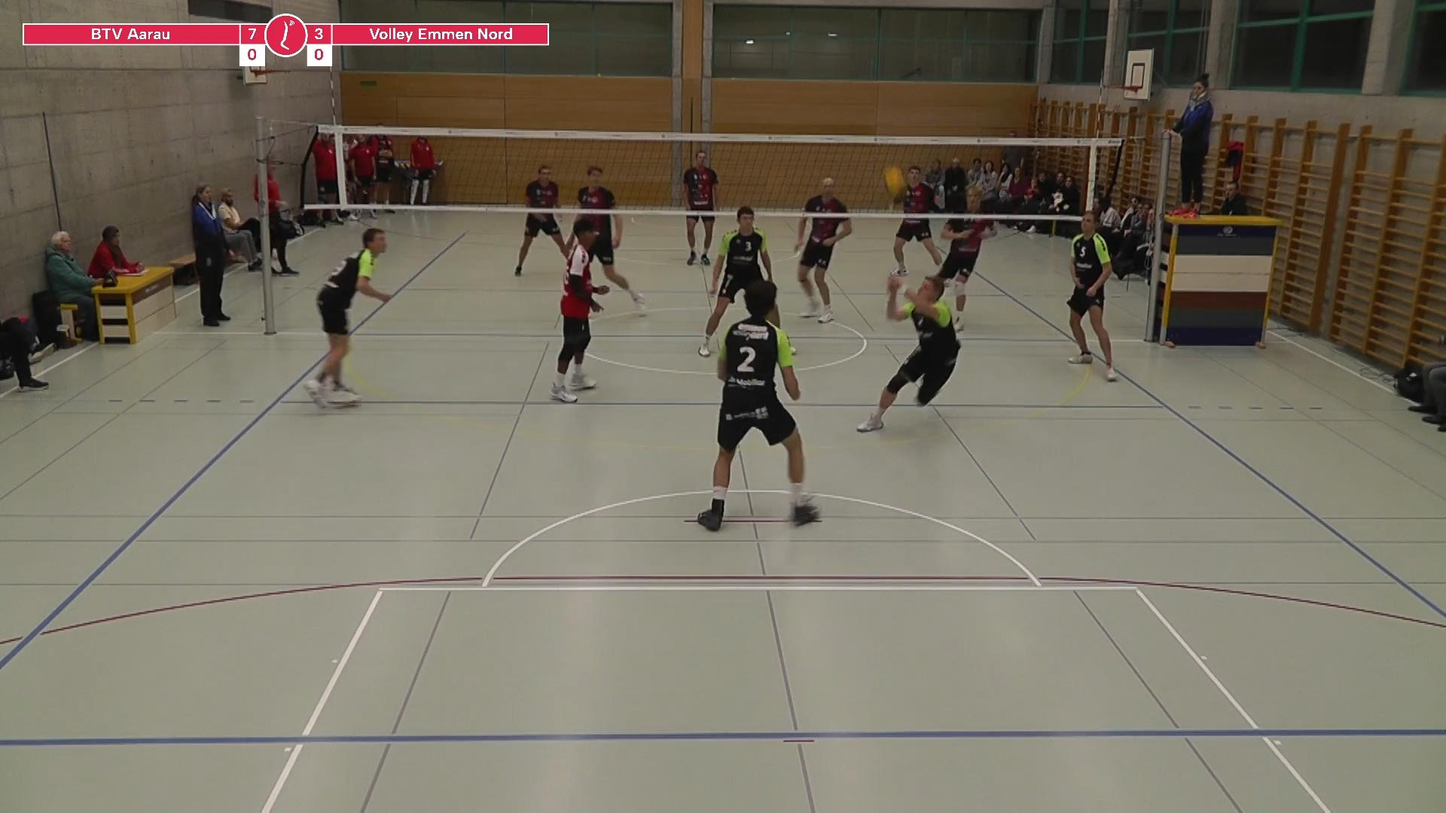Dig: (843, 263, 961, 435)
Player: (697, 280, 818, 531), (304, 228, 392, 407), (698, 206, 772, 357), (551, 219, 609, 402), (575, 166, 645, 313), (795, 178, 851, 323), (1069, 209, 1116, 381), (938, 218, 996, 330), (893, 166, 942, 276), (514, 212, 566, 276), (686, 214, 714, 266)
ball: (880, 157, 909, 197)
